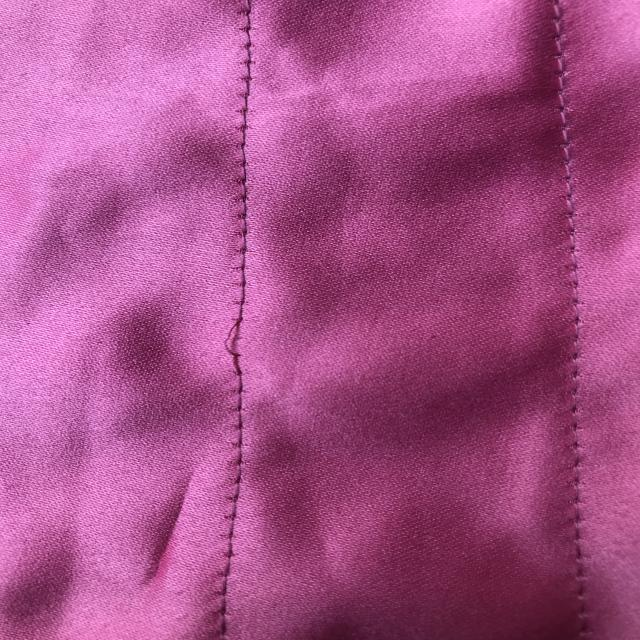skip: (206, 301, 272, 378)
